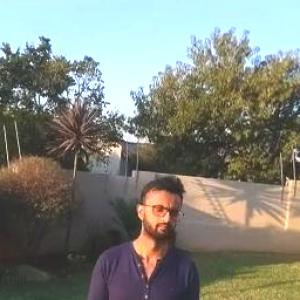follow: (82, 176, 205, 299)
